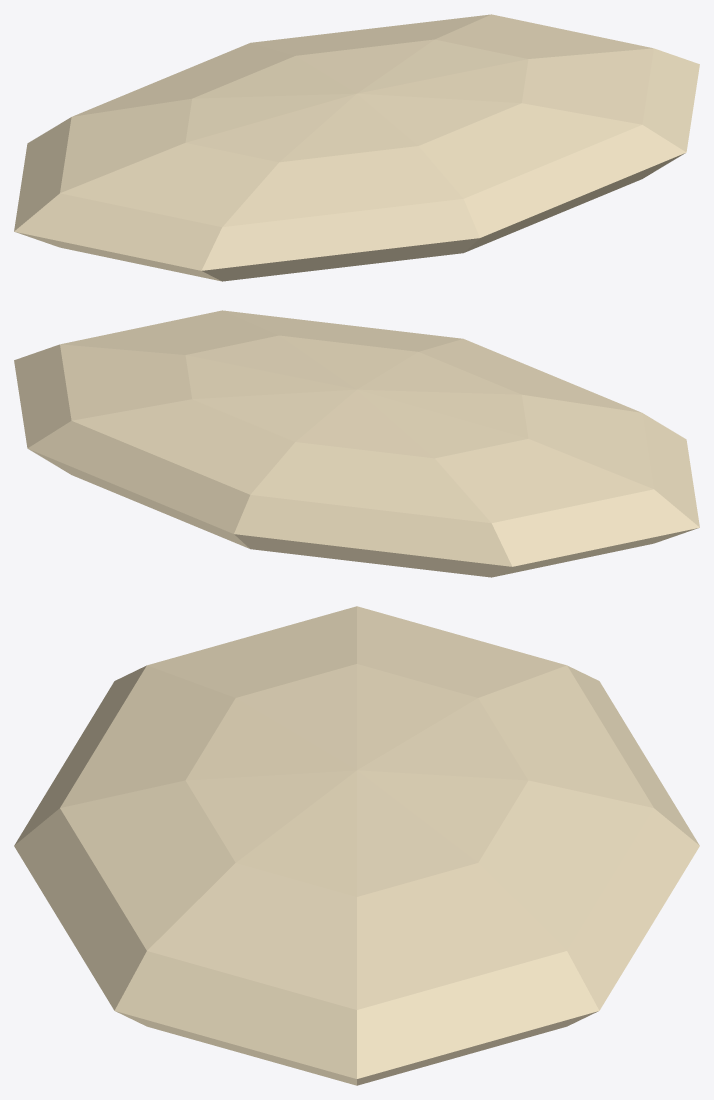
The model's file is dune.glb.
3 views of the same model, one above another, from view 1: azimuth 30°, elevation 25°; view 2: azimuth 150°, elevation 25°; view 3: azimuth 270°, elevation 25° (orthographic). The views are drawn at different scales.
Visible parts, largest first — view 1: Rise; view 2: Rise; view 3: Rise.
Boxes of the visible parts, x1=… form: Rise: x1=14, y1=14, x2=699, y2=281; Rise: x1=14, y1=310, x2=699, y2=577; Rise: x1=14, y1=606, x2=699, y2=1085.
Bounding box in the file's own units: 8.69 × 1.32 × 5.4.
